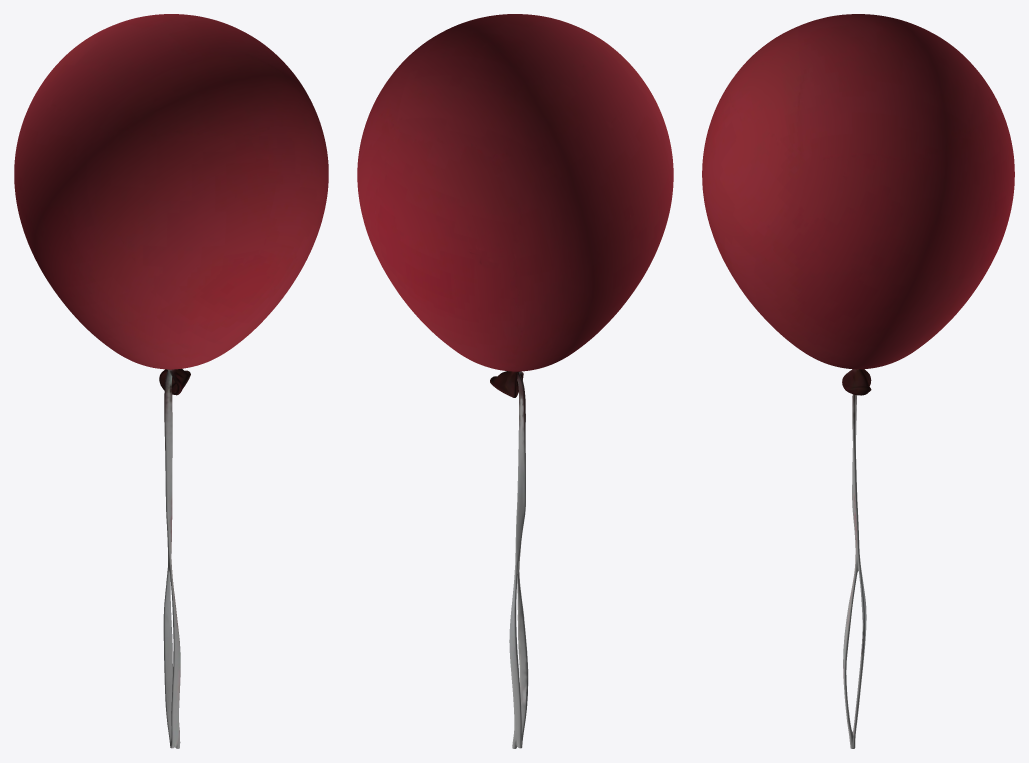
File: ballon.glb
The picture shows the model from 3 angles, left to right: view 1: azimuth 30°, elevation 25°; view 2: azimuth 150°, elevation 25°; view 3: azimuth 270°, elevation 25°; orthographic projection.
Visible parts, largest first — view 1: node_0; view 2: node_0; view 3: node_0.
Boxes of the visible parts, x1=… form: node_0: x1=14, y1=14, x2=328, y2=748; node_0: x1=357, y1=14, x2=673, y2=748; node_0: x1=702, y1=14, x2=1014, y2=748.
Size of the model in its own units: 23.51 by 59.22 by 23.38.
Materials: 1 (1 with a texture image).
